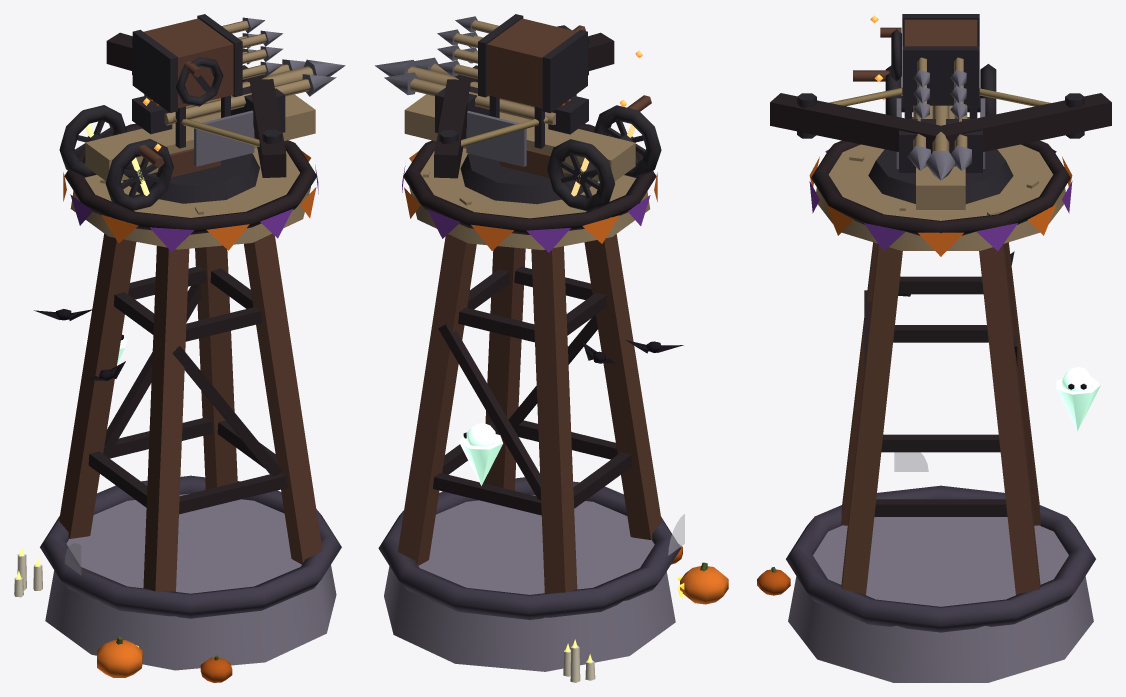
The model's file is tower_ballista_boltStorm.glb.
The picture shows the model from 3 angles, left to right: view 1: azimuth 30°, elevation 25°; view 2: azimuth 150°, elevation 25°; view 3: azimuth 270°, elevation 25°; orthographic projection. The views are drawn at different scales.
Visible parts, largest first — view 1: base, leg_wn, base_rim, leg_en, leg_ws, leg_es, deck, deck_rim, stock, magazine, turret_ring, magazine_band_b (+27 smaller); view 2: base, leg_ws, base_rim, leg_es, leg_wn, deck, leg_en, deck_rim, magazine, stock, turret_ring, brace_b (+27 smaller); view 3: base, base_rim, leg_en, leg_es, deck, deck_rim, bow_arm_l, bow_arm_r, magazine_band_f, turret_ring, deco_hw_bunting, ring_e_0.21 (+16 smaller).
Part boxes in pixels (x1,y1,x2,y2): base: (45,493,336,670); leg_wn: (143,245,189,591); base_rim: (40,475,341,618); leg_en: (244,233,322,564); leg_ws: (59,233,136,538); leg_es: (195,245,237,489); deck: (70,148,310,249); deck_rim: (64,123,317,234); stock: (85,94,315,180); magazine: (143,18,233,108); turret_ring: (122,153,259,203); magazine_band_b: (132,29,177,112); base: (384,494,675,671); leg_ws: (531,246,577,593); base_rim: (378,477,680,619); leg_es: (398,234,476,565); leg_wn: (584,234,661,539); deck: (409,148,649,250); leg_en: (483,246,525,490); deck_rim: (403,124,656,234); magazine: (487,18,576,108); stock: (404,94,635,181); turret_ring: (460,153,597,204); brace_b: (438,323,540,499); base: (788,517,1093,682); base_rim: (786,485,1095,632); leg_en: (841,244,902,594); leg_es: (979,244,1040,594); deck: (816,144,1065,250); deck_rim: (811,140,1070,235); bow_arm_l: (770,93,945,153); bow_arm_r: (936,93,1111,153); magazine_band_f: (902,46,979,105); turret_ring: (868,149,1013,203); deco_hw_bunting: (809,149,1072,256); ring_e_0.21: (874,499,1007,516).
Bounding box in the file's own units: 0.463 × 0.848 × 0.4638.
